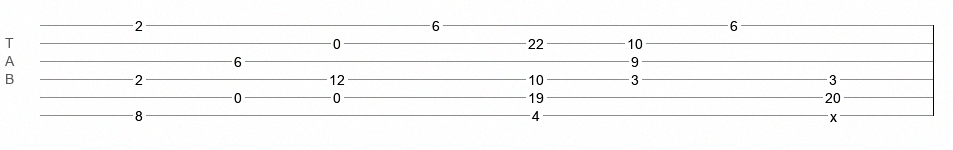0: (234, 90, 242, 100), (333, 36, 341, 46), (333, 90, 341, 100)
10: (528, 72, 544, 82), (627, 36, 643, 46)
12: (329, 72, 345, 82)
19: (528, 90, 544, 100)
2: (135, 72, 143, 82), (135, 18, 143, 28)
20: (825, 90, 841, 100)
22: (528, 36, 544, 46)
3: (631, 72, 639, 82), (829, 72, 837, 82)
4: (532, 108, 540, 118)
6: (234, 54, 242, 64), (432, 18, 440, 28), (730, 18, 738, 28)
8: (135, 108, 143, 118)
9: (631, 54, 639, 64)
x: (830, 109, 837, 117)
